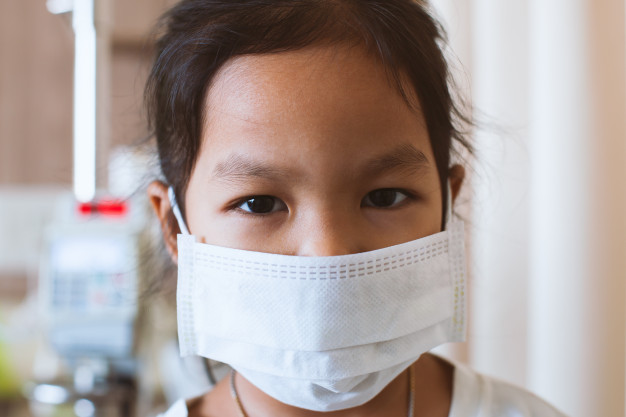surgical: (164, 223, 475, 411)
